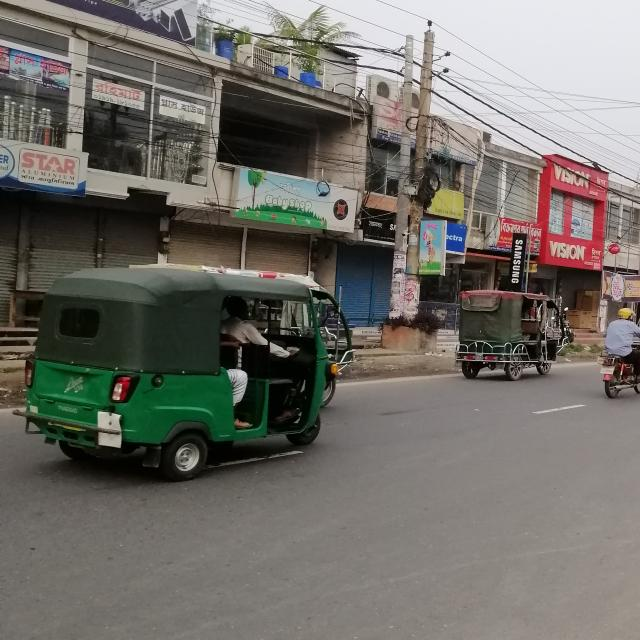CNG: (11, 252, 347, 487)
Easybike: (450, 281, 578, 395)
Motorbike: (587, 343, 640, 401)
